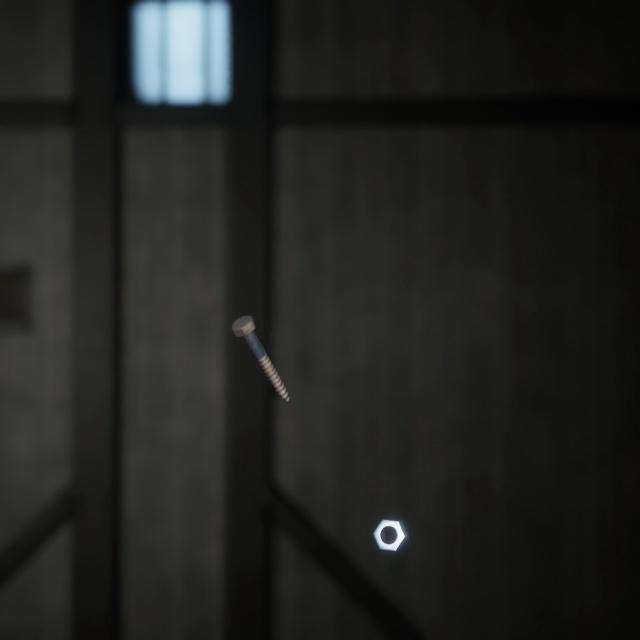bolt: (227, 291, 293, 387)
nut: (368, 493, 413, 534)
